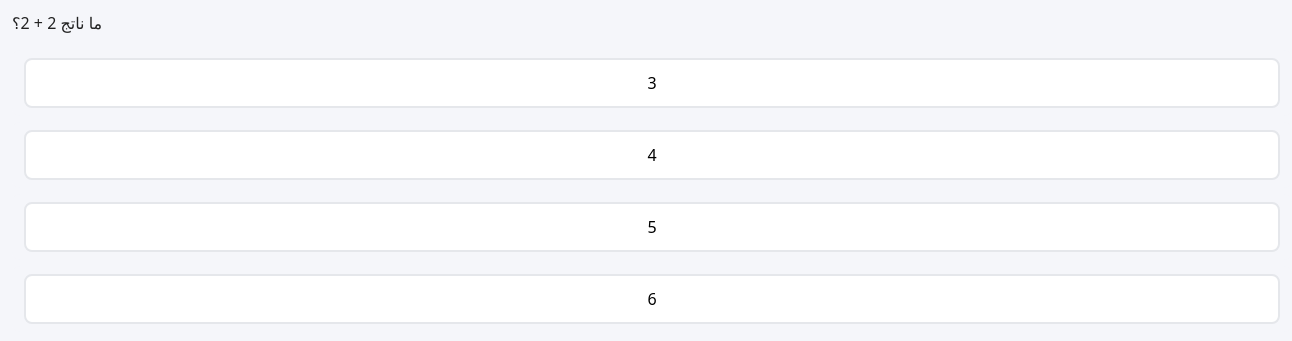
Test: McqQuestion › disables all options after answering
What coordinates should you click on to do the following:
click the button "5"
I would click on:
 (652, 227)
Its box is [24,202,1280,252].
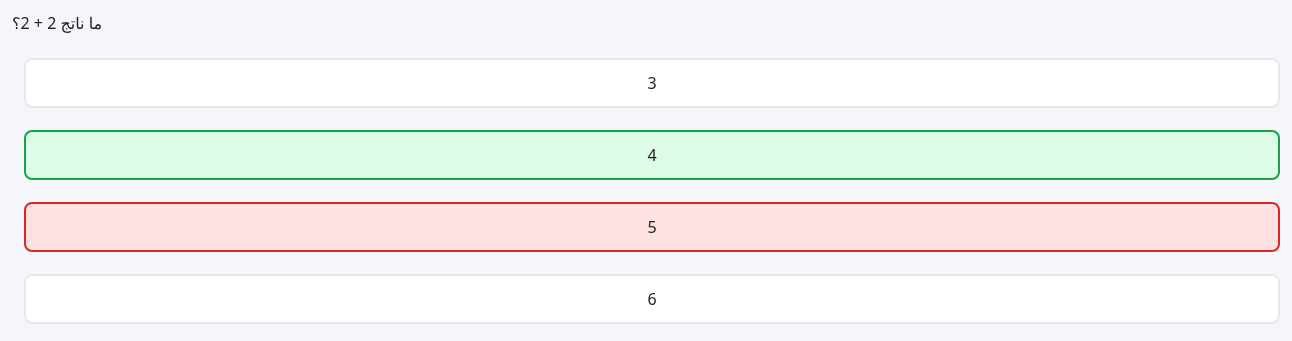
Expected: the button "3" is disabled, [24,58,1280,108]
Now the button "4" is disabled, box [24,130,1280,180]
Now the button "5" is disabled, box [24,202,1280,252]
